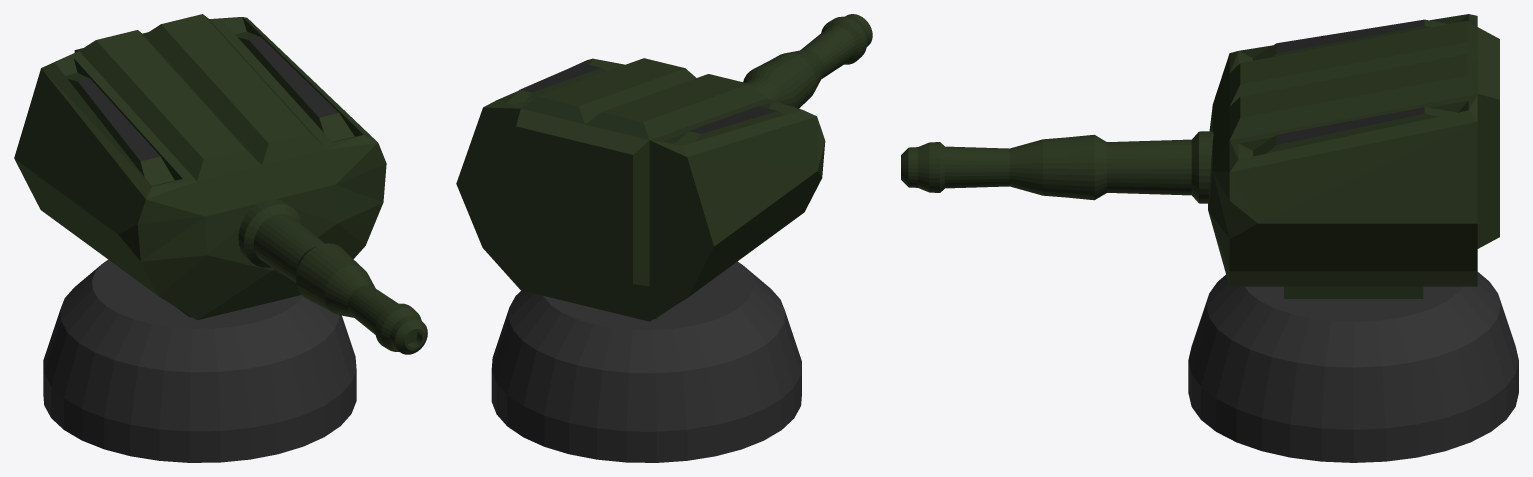
Rendered from MashineGUN2.dae.
3 views of the same model, side by side, from view 1: azimuth 30°, elevation 25°; view 2: azimuth 150°, elevation 25°; view 3: azimuth 270°, elevation 25° (orthographic). The views are drawn at different scales.
Visible parts, largest first — view 1: Крепление1.001, Круглая Осн, Cylinder; view 2: Крепление1.001, Круглая Осн, Cylinder; view 3: Крепление1.001, Круглая Осн, Cylinder, Крепление1.
Boxes of the visible parts, x1=… form: Крепление1.001: x1=14, y1=14, x2=386, y2=320; Круглая Осн: x1=43, y1=259, x2=356, y2=462; Cylinder: x1=238, y1=199, x2=427, y2=354; Крепление1.001: x1=456, y1=58, x2=825, y2=321; Круглая Осн: x1=491, y1=261, x2=801, y2=462; Cylinder: x1=743, y1=14, x2=872, y2=108; Крепление1.001: x1=1208, y1=14, x2=1499, y2=286; Круглая Осн: x1=1188, y1=272, x2=1518, y2=462; Cylinder: x1=901, y1=131, x2=1213, y2=203; Крепление1: x1=1284, y1=286, x2=1423, y2=298.
Bounding box in the file's own units: 1.91 × 3.57 × 2.21.
